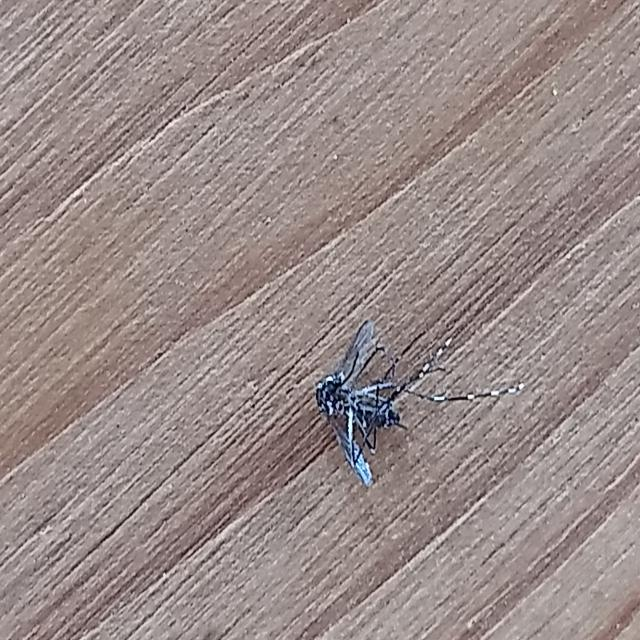albopictus: (315, 308, 525, 489)
